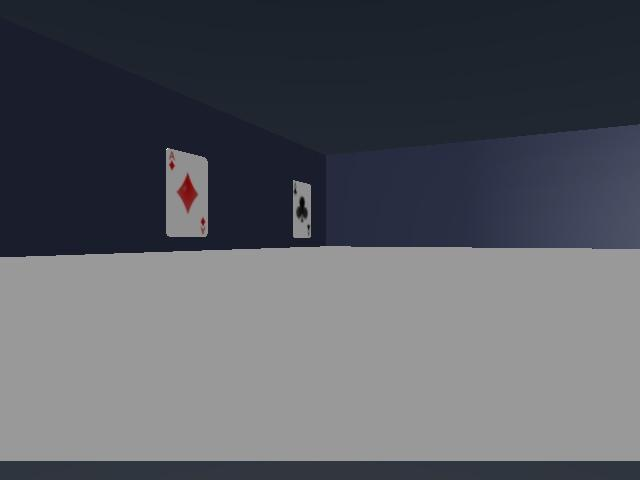club: (293, 181, 311, 237)
diamond: (166, 148, 208, 236)
